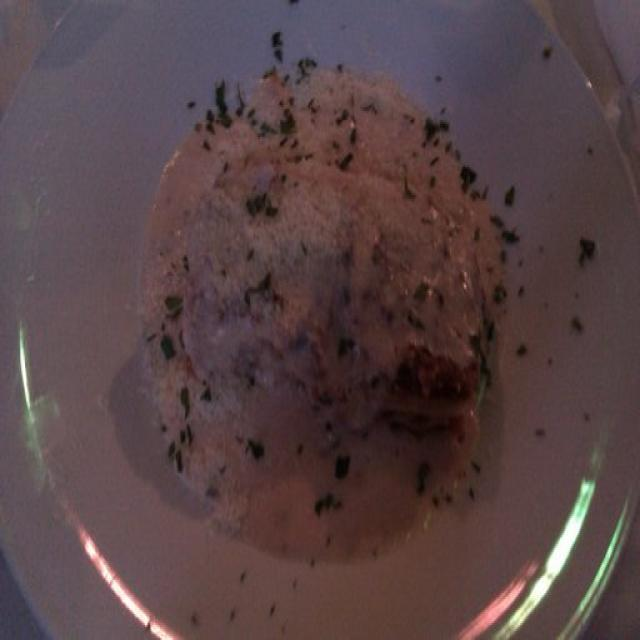Lasagna: (179, 126, 510, 436)
